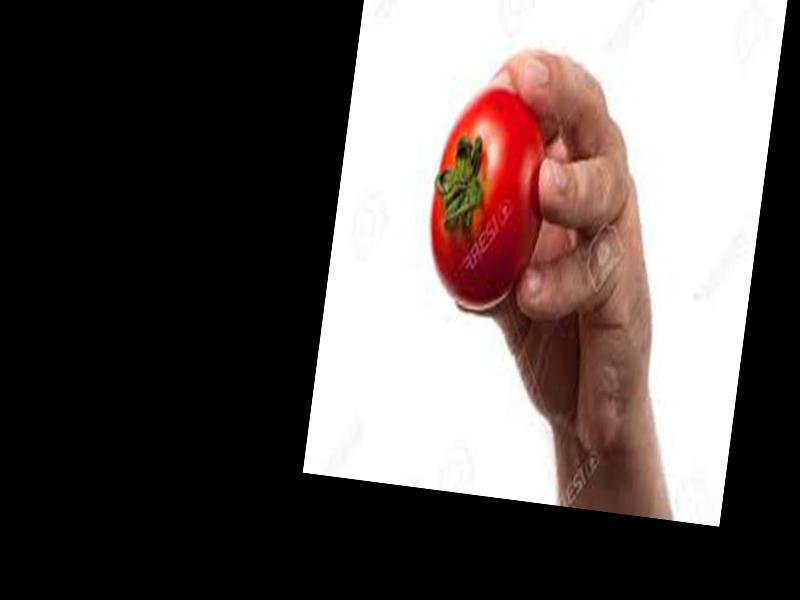Tomato: (419, 81, 556, 313)
